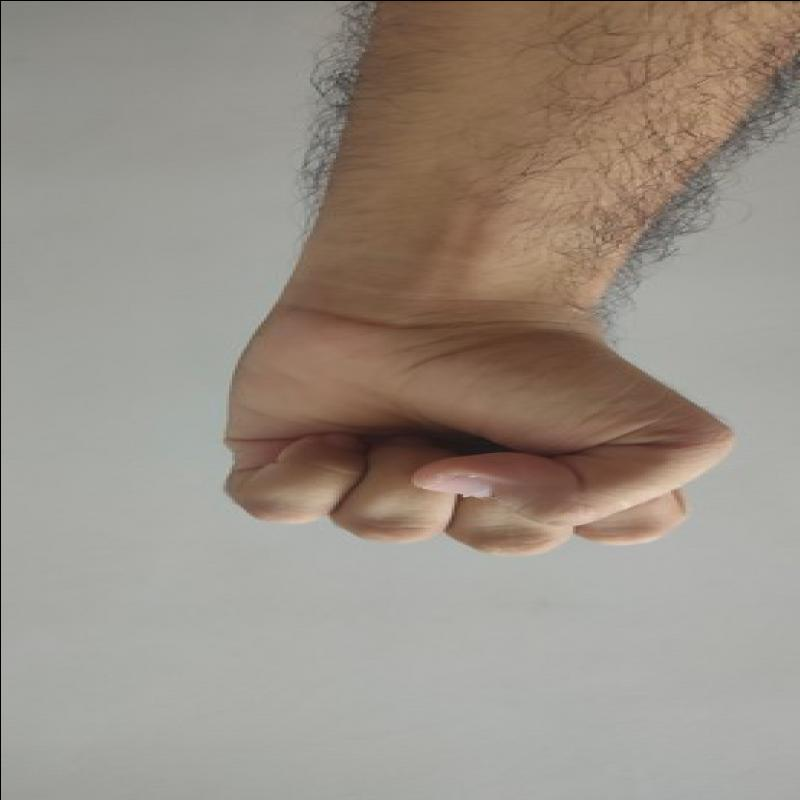Mushti: (199, 304, 750, 568)
